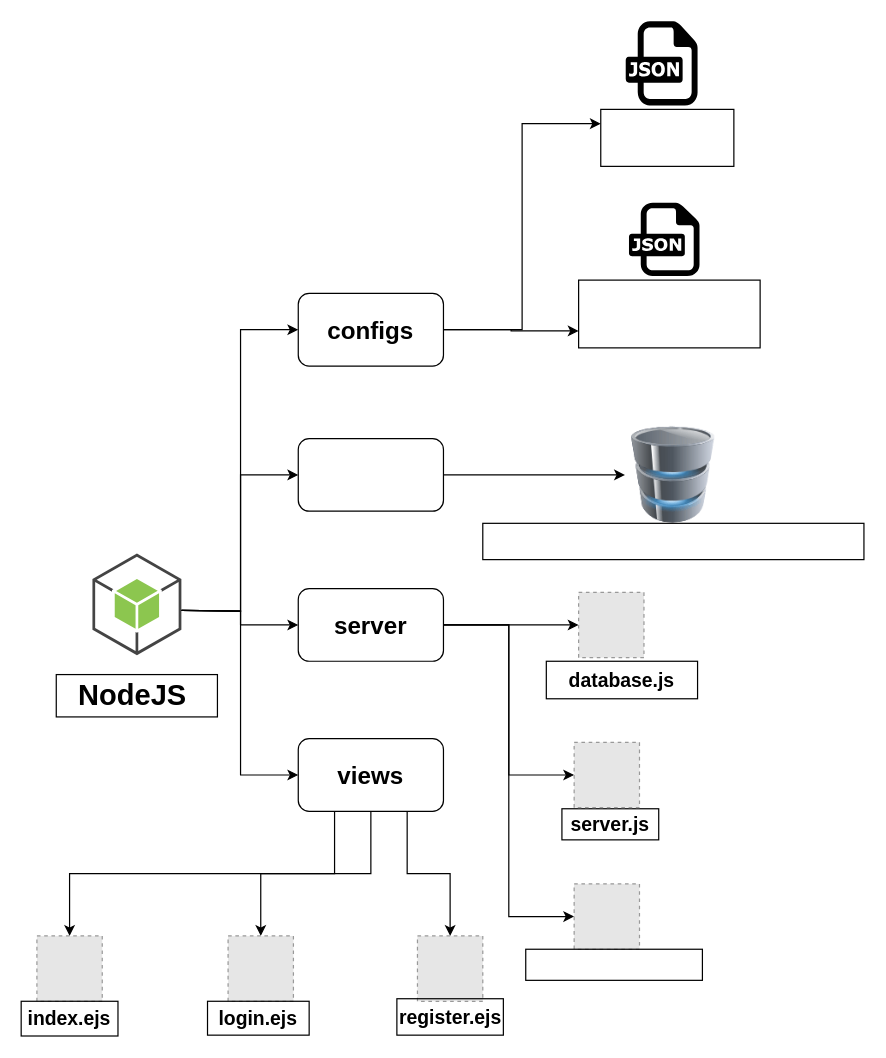
Some shapes in this 886 by 1058 pixel diagram are drawn without their labels. Grey dashed boxes stand in for pictures. The shapes that lost their labels are listed below. From the top down, each one's centre as x and y in pixels, then its label:
At point 667,137: "package.json".
At point 668,313: "package-lock.json".
At point 370,474: "data".
At point 673,541: "MongoDB Server in AWS Cloud".
At point 613,964: "passportConfig.js".
